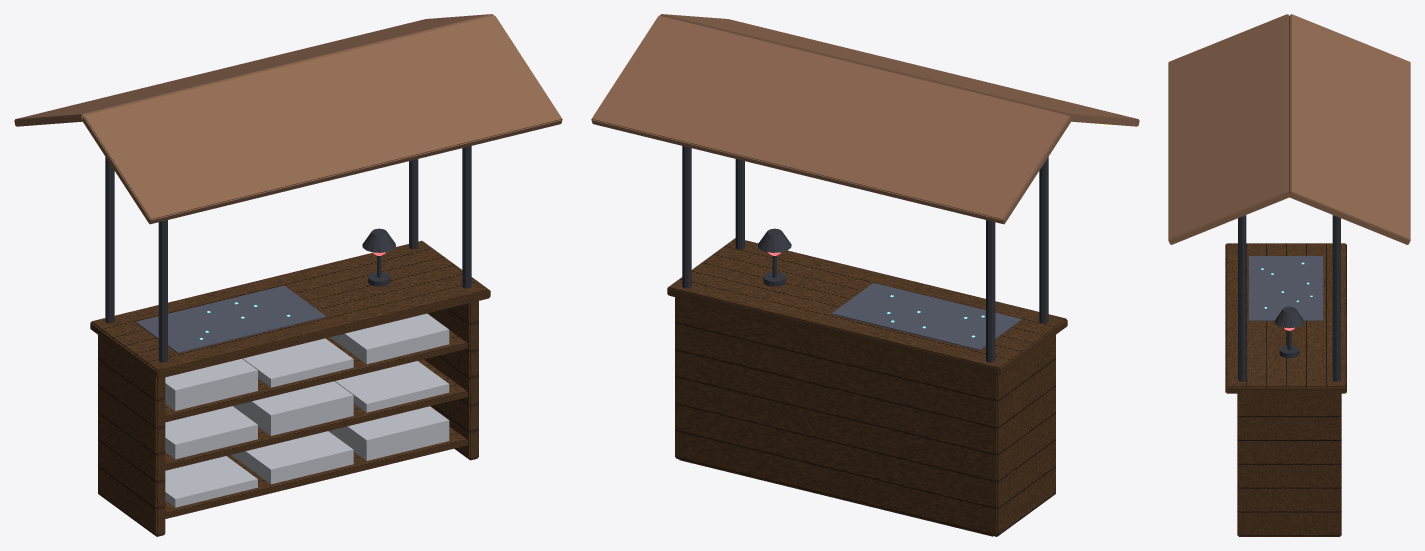
The model's file is chart_shelf.glb.
3 renders of one model, left to right at view 1: azimuth 30°, elevation 25°; view 2: azimuth 150°, elevation 25°; view 3: azimuth 270°, elevation 25°, orthographic. The views are drawn at different scales.
Visible parts, largest first — view 1: Little roof, Shelf side, Charts, Lamp base, Open chart; view 2: Shelf side, Little roof, Lamp base, Open chart; view 3: Little roof, Shelf side, Open chart, Lamp base.
Boxes of the visible parts, bbox=[...] form: Little roof: bbox=[14, 14, 562, 224]; Shelf side: bbox=[90, 240, 490, 536]; Charts: bbox=[165, 313, 449, 507]; Lamp base: bbox=[105, 146, 471, 362]; Open chart: bbox=[135, 285, 326, 353]; Shelf side: bbox=[667, 238, 1067, 536]; Little roof: bbox=[591, 14, 1139, 224]; Lamp base: bbox=[682, 146, 1048, 362]; Open chart: bbox=[831, 282, 1021, 350]; Little roof: bbox=[1168, 14, 1410, 244]; Shelf side: bbox=[1225, 243, 1346, 536]; Open chart: bbox=[1249, 256, 1323, 320]; Lamp base: bbox=[1238, 215, 1340, 381].
Bounding box in the file's own units: 2.5 × 2.38 × 1.44.
8 materials, 1 textured.
